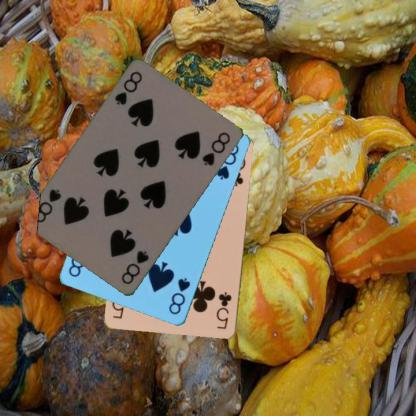5c: (214, 290, 233, 330)
8s: (111, 68, 144, 107), (118, 248, 151, 286), (166, 275, 192, 316)
